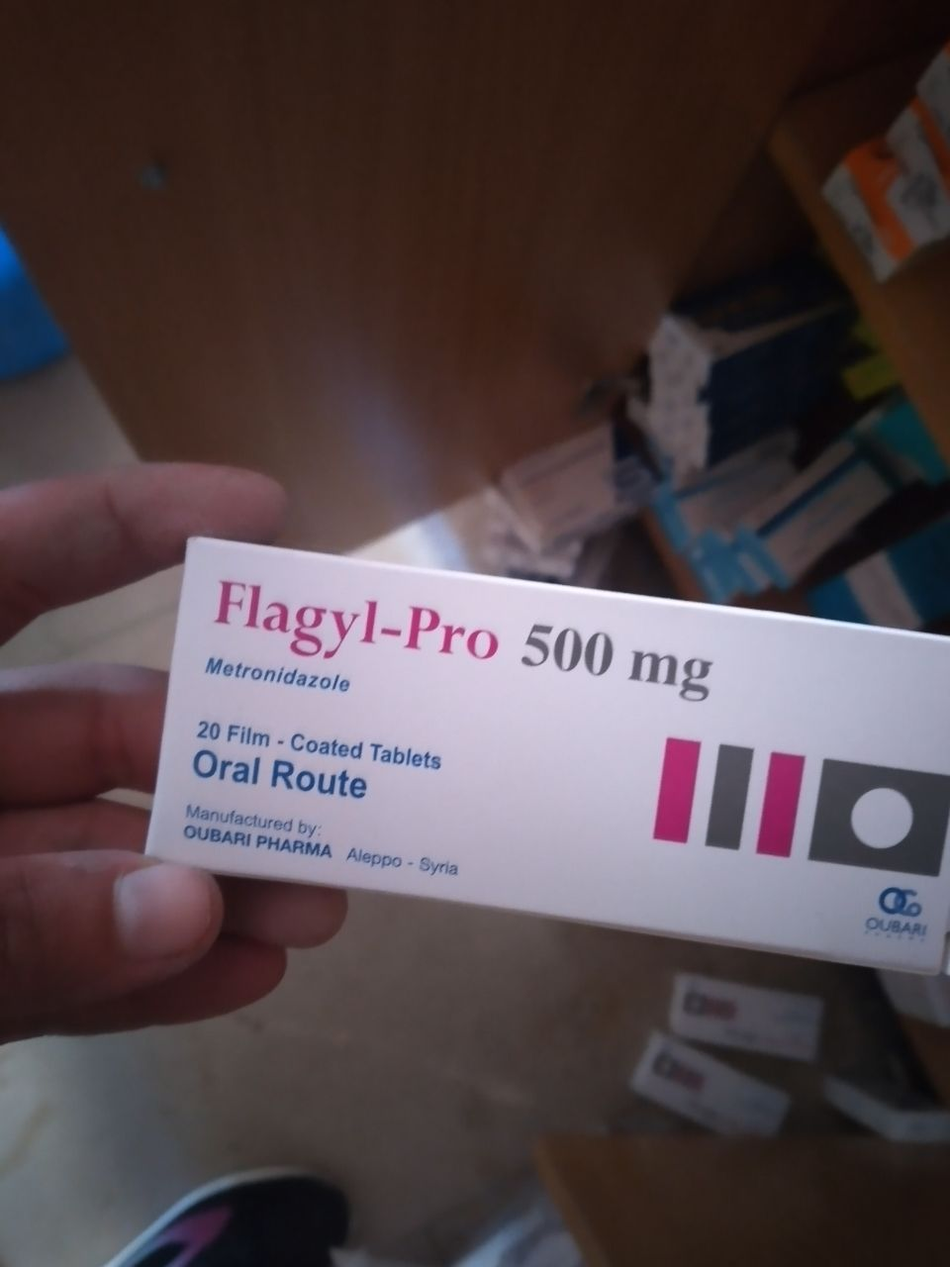Medicine: (142, 525, 950, 1020)
